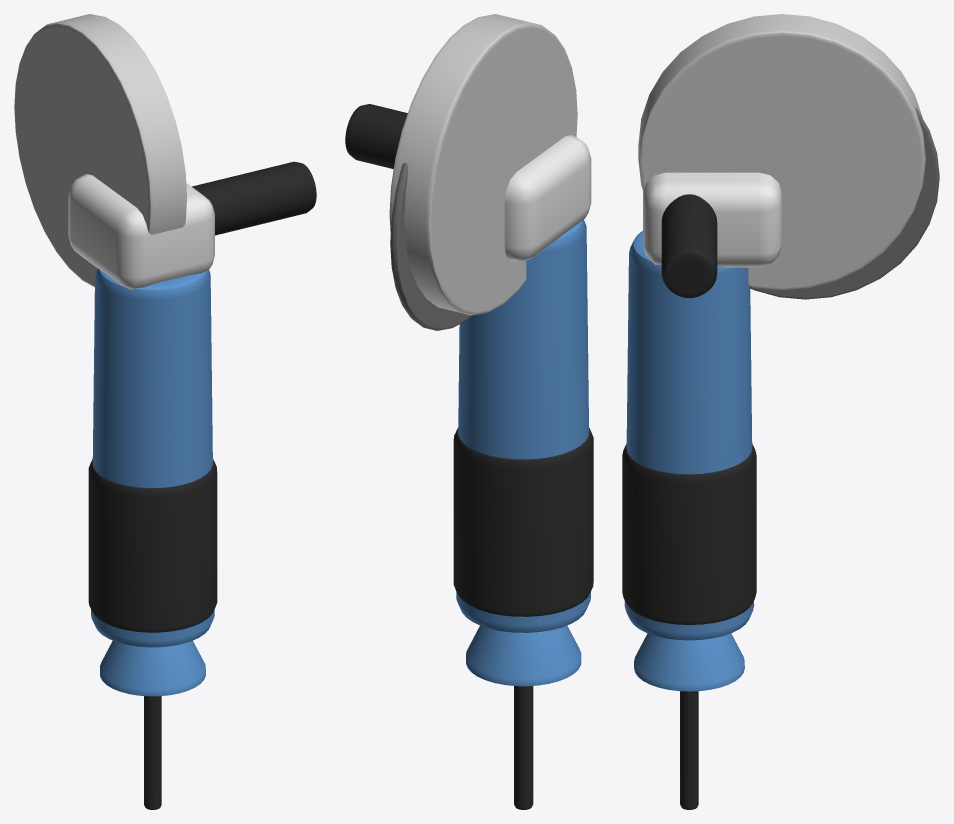
Rendered from tool_repair.glb.
The picture shows the model from 3 angles, left to right: view 1: azimuth 30°, elevation 25°; view 2: azimuth 150°, elevation 25°; view 3: azimuth 270°, elevation 25°; orthographic projection. The views are drawn at different scales.
Visible parts, largest first — view 1: SM_tool_repair; view 2: SM_tool_repair; view 3: SM_tool_repair.
Part boxes in pixels (x1,y1,x2,y2): SM_tool_repair: (14,14,316,809); SM_tool_repair: (345,14,593,809); SM_tool_repair: (622,14,939,809).
Size of the model in its own units: 0.109 by 0.372 by 0.137.
